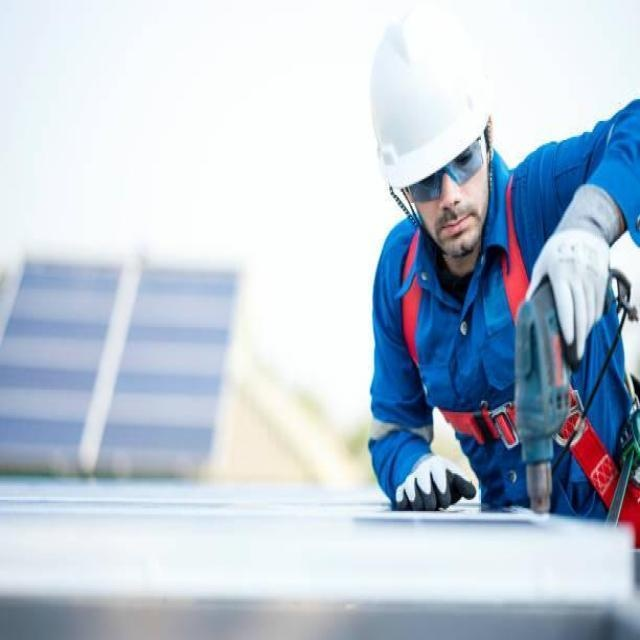Arnes_seguridad: (399, 168, 640, 552)
